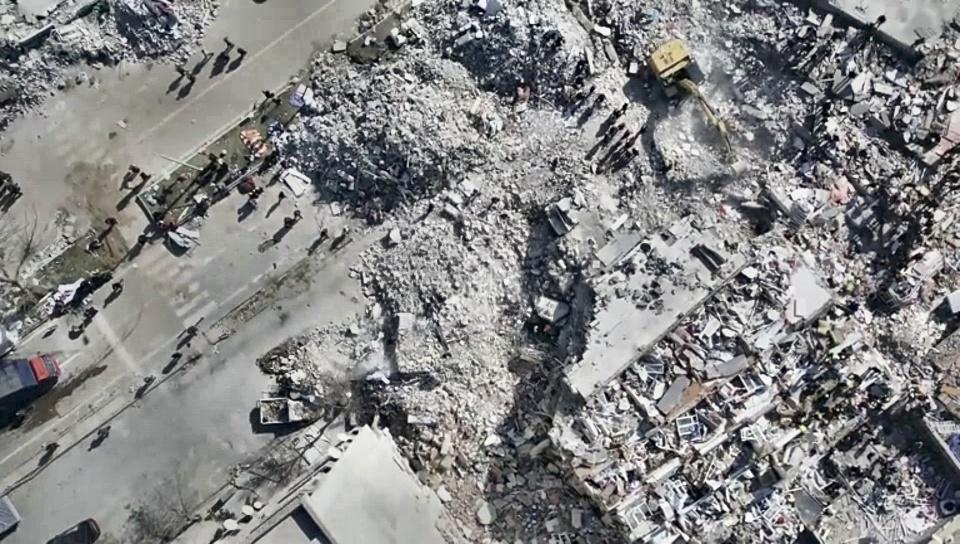kapali: (194, 0, 818, 450), (213, 0, 638, 284)
